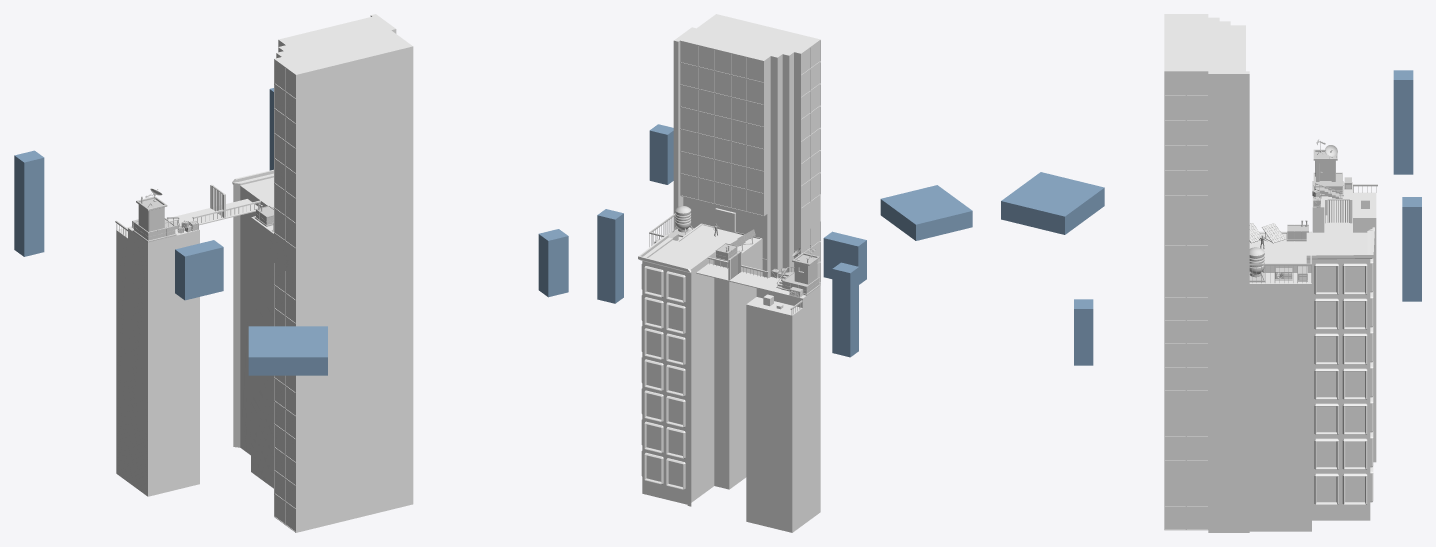
3 views of the same model, side by side, from view 1: azimuth 30°, elevation 25°; view 2: azimuth 150°, elevation 25°; view 3: azimuth 270°, elevation 25° (orthographic). The views are drawn at different scales.
Parts seen in each view (by area): view 1: Cube__17_.001, Cube__16_, Cube__18_, Cube__17_, Cube__25_, Cube__27_, Cube__28_, Cube__32_, Cube.008, Cube__15_; view 2: Cube__17_.001, Cube__18_, Cube__16_, Cube__17_, Cube__25_, Cube__27_, Cube__26_, Cube__28_, Cube__32_, Cube.008, Cube__15_, Cylinder; view 3: Cube__17_.001, Cube__18_, Cube__24_, Cube__25_, Cube__16_, Cube__27_, Cube__26_, Cube__17_, Cube.008, Cube__32_, Cube__15_, Cylinder.
Part boxes in pixels (left/top/right/bottom): Cube__17_.001: left=274, top=14, right=413, bottom=532; Cube__16_: left=116, top=215, right=199, bottom=496; Cube__18_: left=232, top=169, right=273, bottom=455; Cube__17_: left=251, top=216, right=273, bottom=488; Cube__25_: left=248, top=326, right=327, bottom=375; Cube__27_: left=14, top=150, right=44, bottom=256; Cube__28_: left=175, top=240, right=223, bottom=300; Cube__32_: left=538, top=229, right=568, bottom=297; Cube.008: left=132, top=188, right=179, bottom=242; Cube__15_: left=180, top=199, right=258, bottom=225; Cube__17_.001: left=673, top=14, right=820, bottom=284; Cube__18_: left=638, top=234, right=715, bottom=506; Cube__16_: left=746, top=277, right=820, bottom=532; Cube__17_: left=677, top=223, right=762, bottom=489; Cube__25_: left=880, top=185, right=972, bottom=240; Cube__27_: left=832, top=262, right=858, bottom=357; Cube__26_: left=597, top=209, right=623, bottom=303; Cube__28_: left=823, top=231, right=866, bottom=284; Cube__32_: left=649, top=124, right=673, bottom=184; Cube.008: left=776, top=244, right=820, bottom=295; Cube__15_: left=696, top=263, right=768, bottom=287; Cylinder: left=672, top=206, right=692, bottom=237; Cube__17_.001: left=1164, top=14, right=1249, bottom=532; Cube__18_: left=1306, top=227, right=1374, bottom=520; Cube__24_: left=1249, top=273, right=1311, bottom=531; Cube__25_: left=1001, top=172, right=1104, bottom=234; Cube__16_: left=1312, top=182, right=1376, bottom=462; Cube__27_: left=1393, top=70, right=1413, bottom=174; Cube__26_: left=1402, top=197, right=1421, bottom=301; Cube__17_: left=1249, top=231, right=1311, bottom=272; Cube.008: left=1312, top=139, right=1343, bottom=198; Cube__32_: left=1074, top=299, right=1093, bottom=365; Cube__15_: left=1324, top=207, right=1352, bottom=232; Cylinder: left=1249, top=247, right=1265, bottom=282.
Bounding box in the file's own units: 4136 × 4703 × 3907.
